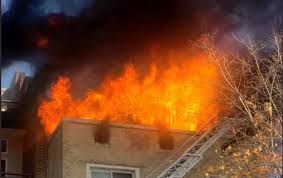smoke: (2, 1, 283, 60)
